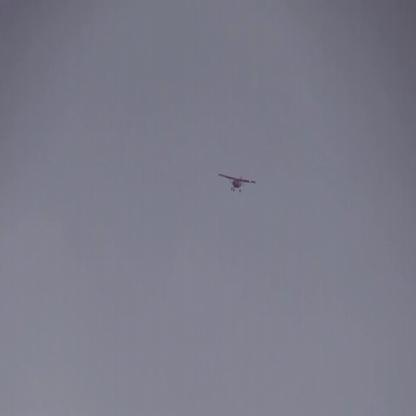CIV_Plane: (219, 172, 256, 194)
